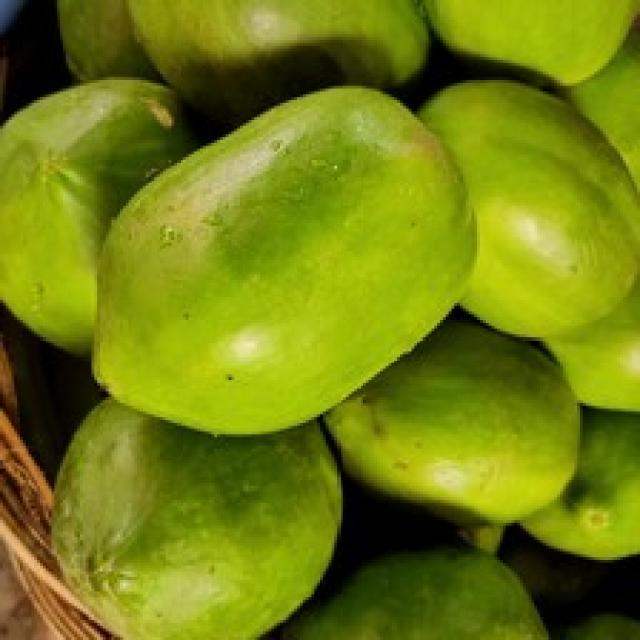Pepaya unrippen: (81, 84, 481, 435)
